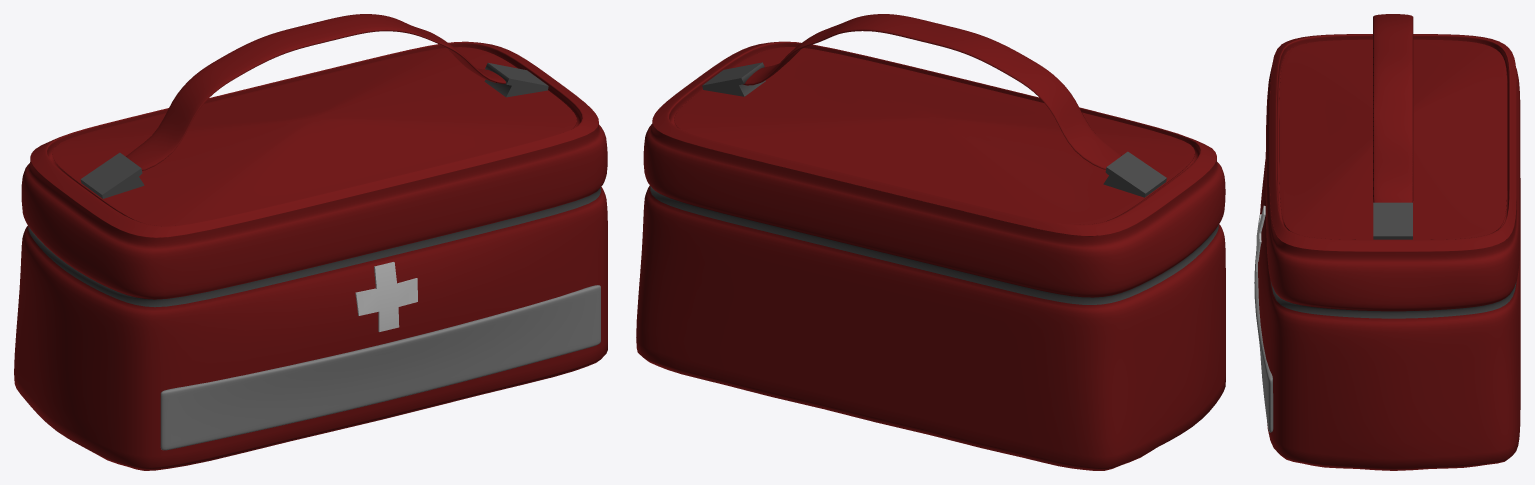
File: T2_FIRSTAID.fbx
The picture shows the model from 3 angles, left to right: view 1: azimuth 30°, elevation 25°; view 2: azimuth 150°, elevation 25°; view 3: azimuth 270°, elevation 25°; orthographic projection. The views are drawn at different scales.
Parts seen in each view (by area): view 1: FIRSTAID; view 2: FIRSTAID; view 3: FIRSTAID.
Part boxes in pixels (x1,y1,x2,y2): FIRSTAID: (14, 14, 607, 470); FIRSTAID: (636, 14, 1225, 470); FIRSTAID: (1254, 14, 1520, 470).
Bounding box in the file's own units: 1.05 × 0.5 × 0.6603.
